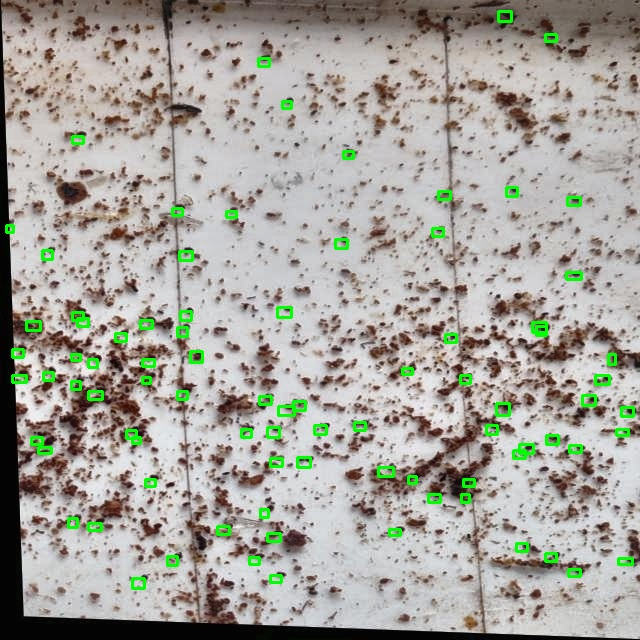varroa: (496, 403, 509, 415), (278, 406, 294, 415), (277, 307, 291, 317), (532, 322, 546, 332), (378, 467, 393, 476), (190, 351, 202, 362), (498, 11, 511, 21), (582, 395, 595, 405), (297, 457, 310, 467), (595, 375, 609, 384), (519, 444, 533, 453), (26, 321, 40, 330), (267, 427, 279, 437), (132, 578, 144, 588), (179, 251, 192, 260), (88, 391, 102, 399), (335, 239, 347, 248), (621, 407, 633, 416), (546, 435, 558, 444), (314, 425, 326, 434), (293, 401, 305, 410), (566, 272, 581, 279), (567, 197, 580, 205), (267, 533, 280, 541), (506, 187, 517, 196), (180, 311, 191, 320), (486, 425, 497, 434), (12, 375, 26, 382), (438, 191, 450, 199), (140, 320, 152, 328), (259, 396, 271, 404), (270, 458, 282, 466), (513, 450, 525, 458), (428, 494, 440, 502), (217, 526, 229, 534), (88, 523, 101, 530), (42, 250, 52, 259), (177, 327, 187, 336), (536, 326, 546, 335), (167, 556, 177, 565), (258, 58, 269, 66), (432, 228, 443, 236), (72, 312, 83, 320), (77, 318, 88, 326), (445, 334, 456, 342), (354, 422, 365, 430), (12, 349, 23, 357), (115, 333, 126, 341), (516, 543, 527, 551), (545, 553, 556, 561), (142, 359, 154, 366), (569, 445, 581, 452), (568, 569, 580, 576), (618, 558, 632, 564), (68, 518, 77, 527), (241, 429, 251, 437), (177, 391, 187, 399), (43, 372, 53, 380), (126, 430, 136, 438), (460, 375, 470, 383), (38, 447, 51, 453), (545, 34, 556, 41), (31, 437, 42, 444), (463, 479, 474, 486), (270, 575, 281, 582), (72, 136, 83, 143), (88, 359, 97, 367), (71, 381, 80, 389), (616, 429, 628, 435), (608, 354, 615, 364), (249, 557, 259, 564), (145, 479, 155, 486), (172, 208, 182, 215), (343, 151, 353, 158), (389, 529, 400, 535), (461, 494, 469, 502), (260, 509, 268, 517), (282, 101, 291, 108), (402, 368, 412, 374), (226, 211, 236, 217), (408, 476, 416, 483), (71, 354, 80, 360), (6, 225, 13, 232), (142, 377, 150, 383), (132, 437, 140, 443)
